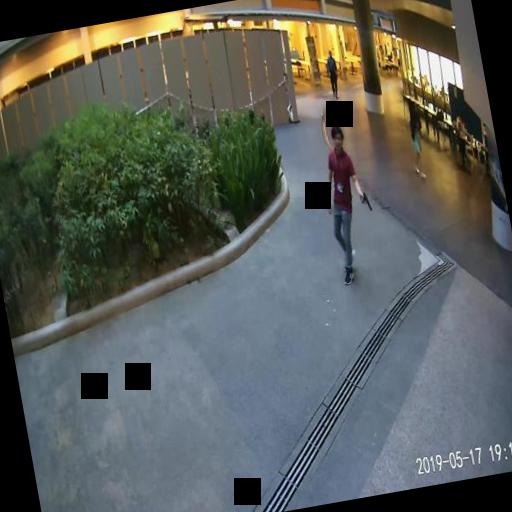Handgun: (357, 189, 369, 209)
